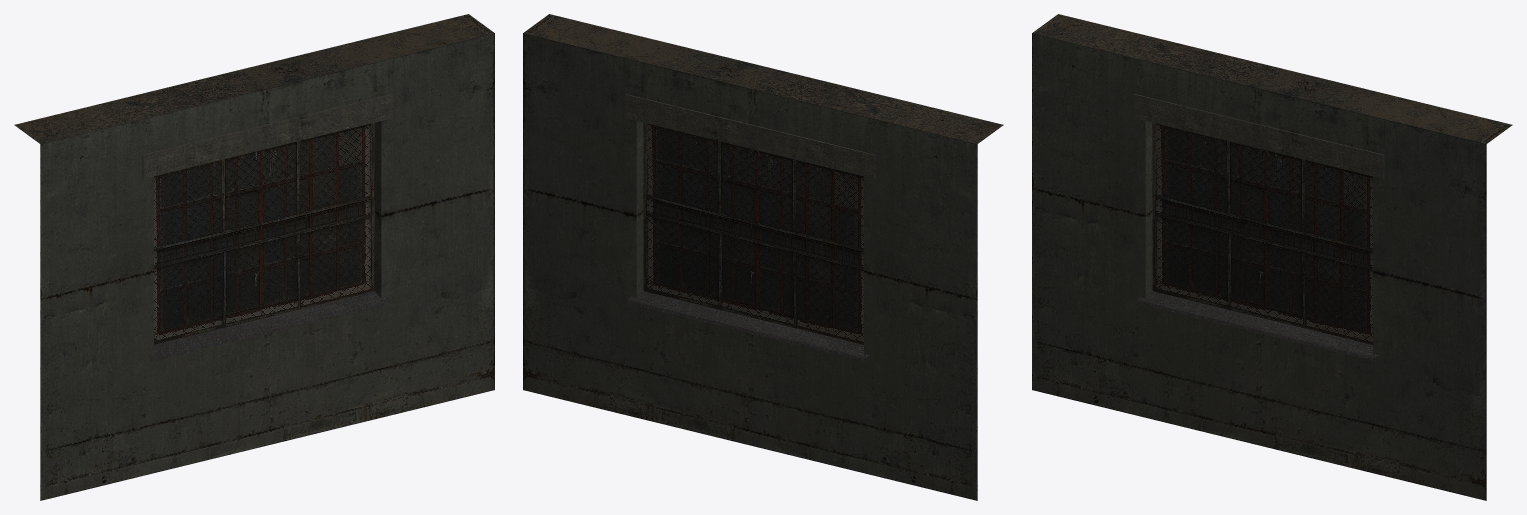
The model's file is window_rg_1.glb.
3 renders of one model, left to right at view 1: azimuth 30°, elevation 25°; view 2: azimuth 150°, elevation 25°; view 3: azimuth 330°, elevation 25°, orthographic.
Parts seen in each view (by area): view 1: window_rg_1; view 2: window_rg_1; view 3: window_rg_1.
Part boxes in pixels (<box>): window_rg_1: <box>14,14,494,500</box>; window_rg_1: <box>523,14,1003,500</box>; window_rg_1: <box>1032,14,1512,500</box>.
Bounding box in the file's own units: 4 × 3 × 0.51.
5 materials, 5 textured.
